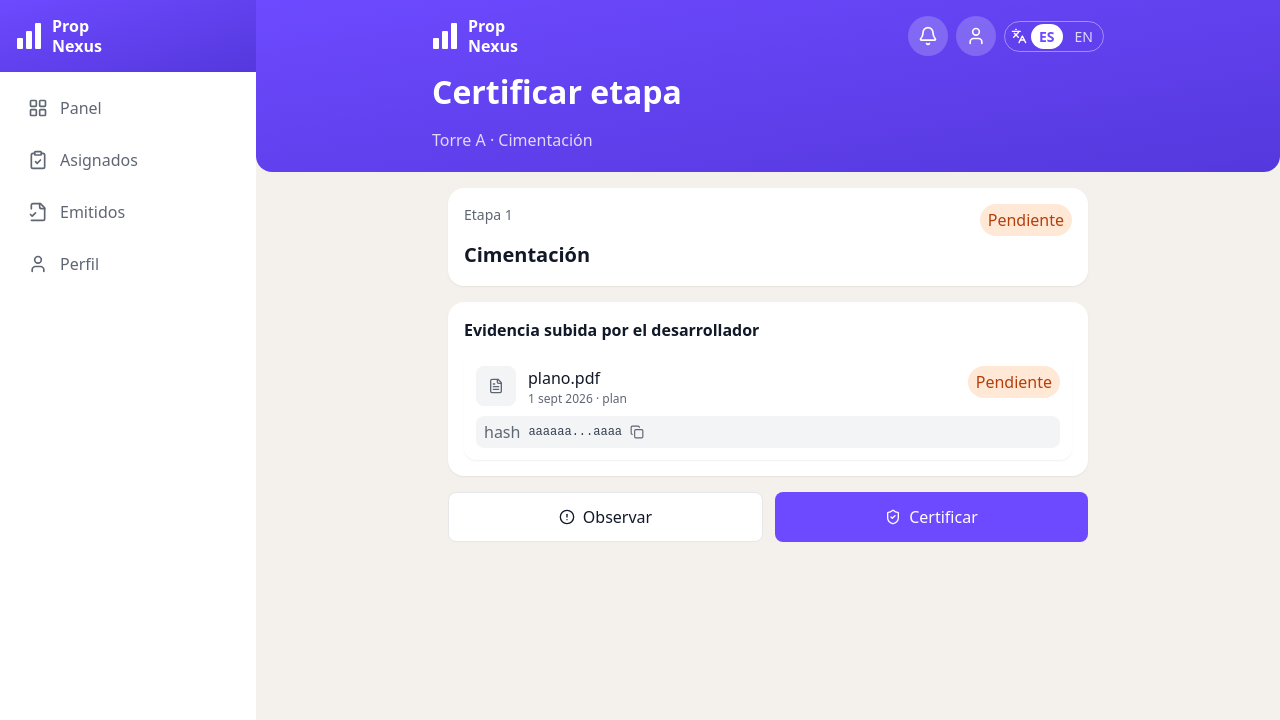
Test case: /certifier/stage/$stageId › mientras certifica, el botón dice "Certificando…"
Expected: the text "plano.pdf" is shown, [528,367,600,389]
Click the button with test id "CER-CERTIFY-001" at (932, 517), box [775,492,1088,542]
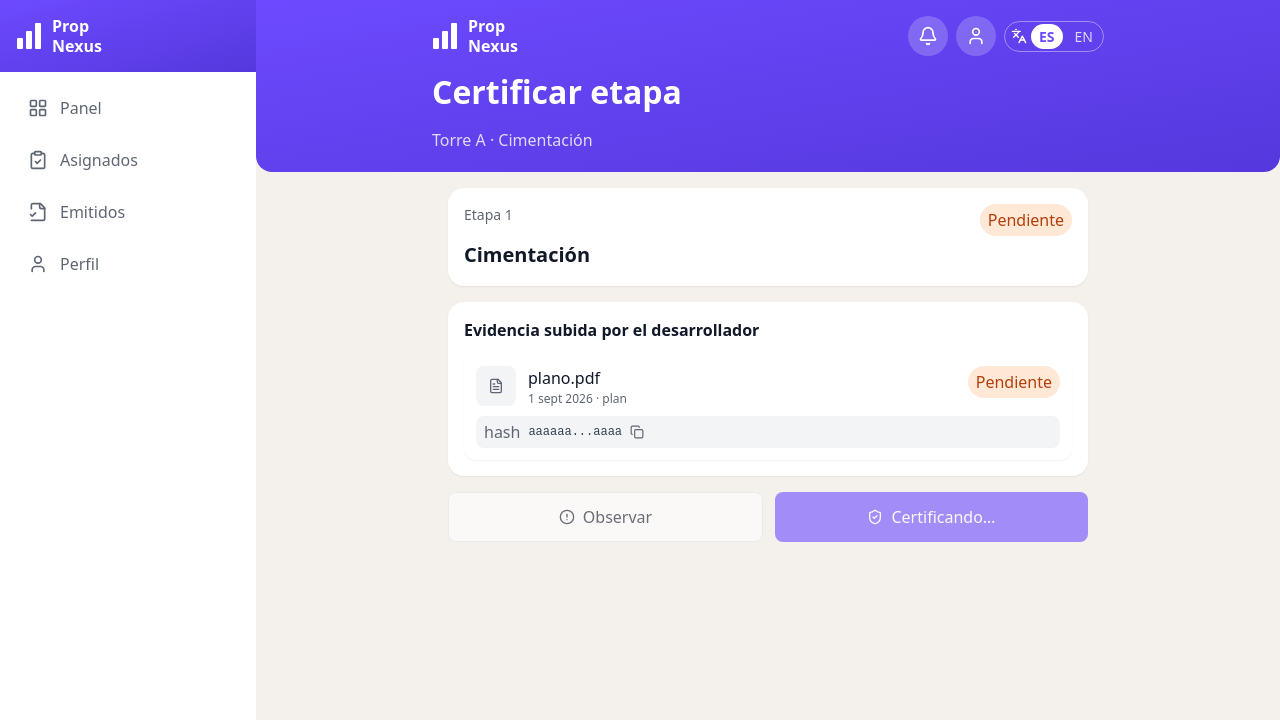
Expected: the button "Certificando…" is shown, [775,492,1088,542]
